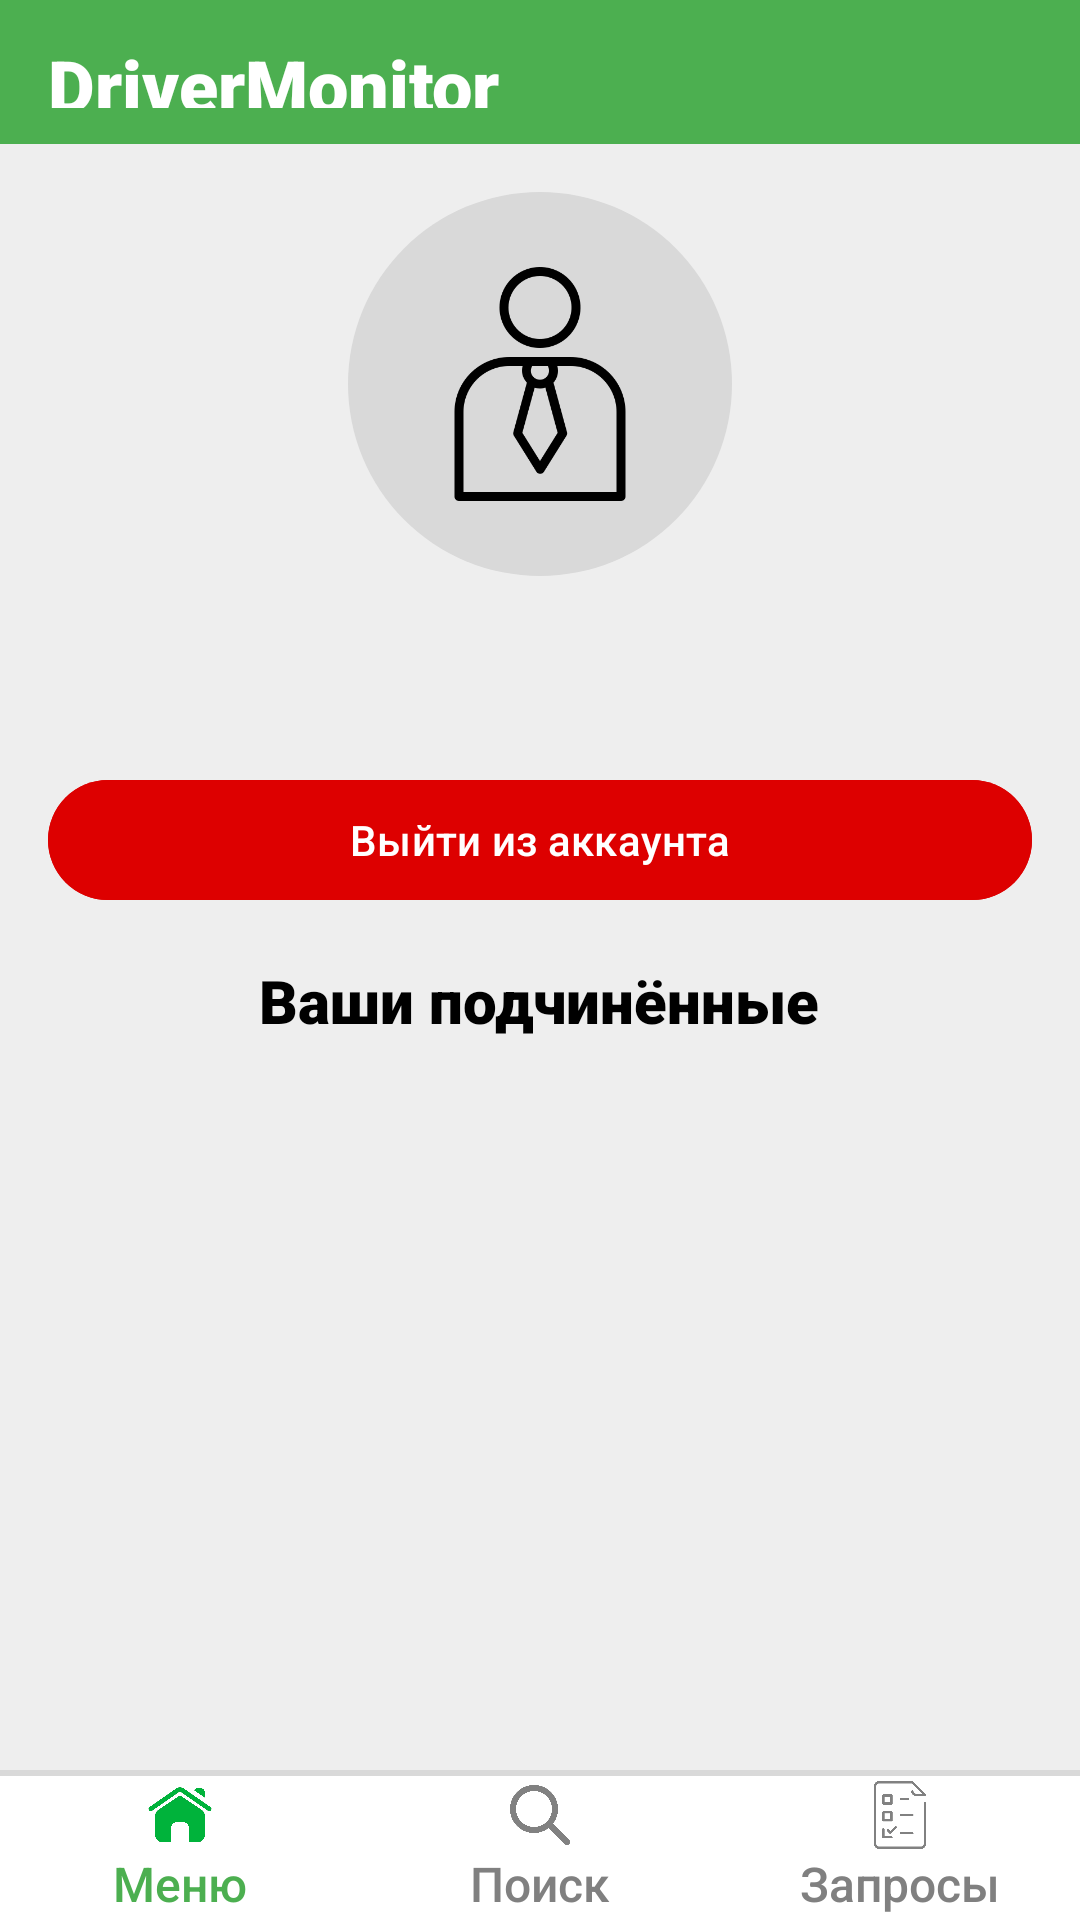

Icons on this 1080*1920 Android screen, each with its box as (x1, y1, x2, y2):
home: (148, 1787, 212, 1842)
tests: (874, 1781, 926, 1849)
